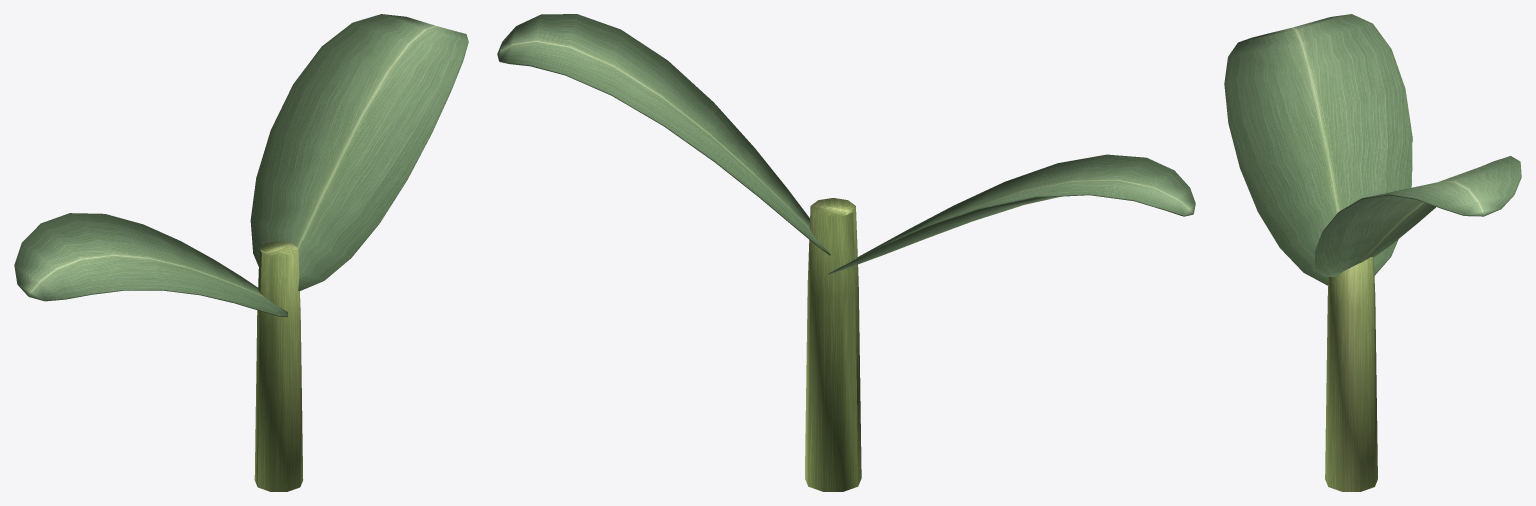
File: NP_Lavender_Sprout.fbx
3 views of the same model, side by side, from view 1: azimuth 30°, elevation 25°; view 2: azimuth 150°, elevation 25°; view 3: azimuth 270°, elevation 25° (orthographic). The views are drawn at different scales.
Visible parts, largest first — view 1: NP_Lavender_Sprout; view 2: NP_Lavender_Sprout; view 3: NP_Lavender_Sprout.
Boxes of the visible parts, x1,y1,x2,y2 form: NP_Lavender_Sprout: (14,14,468,491); NP_Lavender_Sprout: (497,14,1195,491); NP_Lavender_Sprout: (1224,14,1521,491).
Size of the model in its own units: 21.61 by 14.83 by 9.96.
